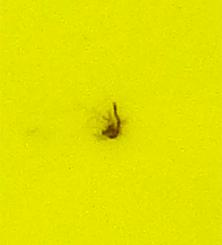Nematocera: (100, 100, 122, 145)
